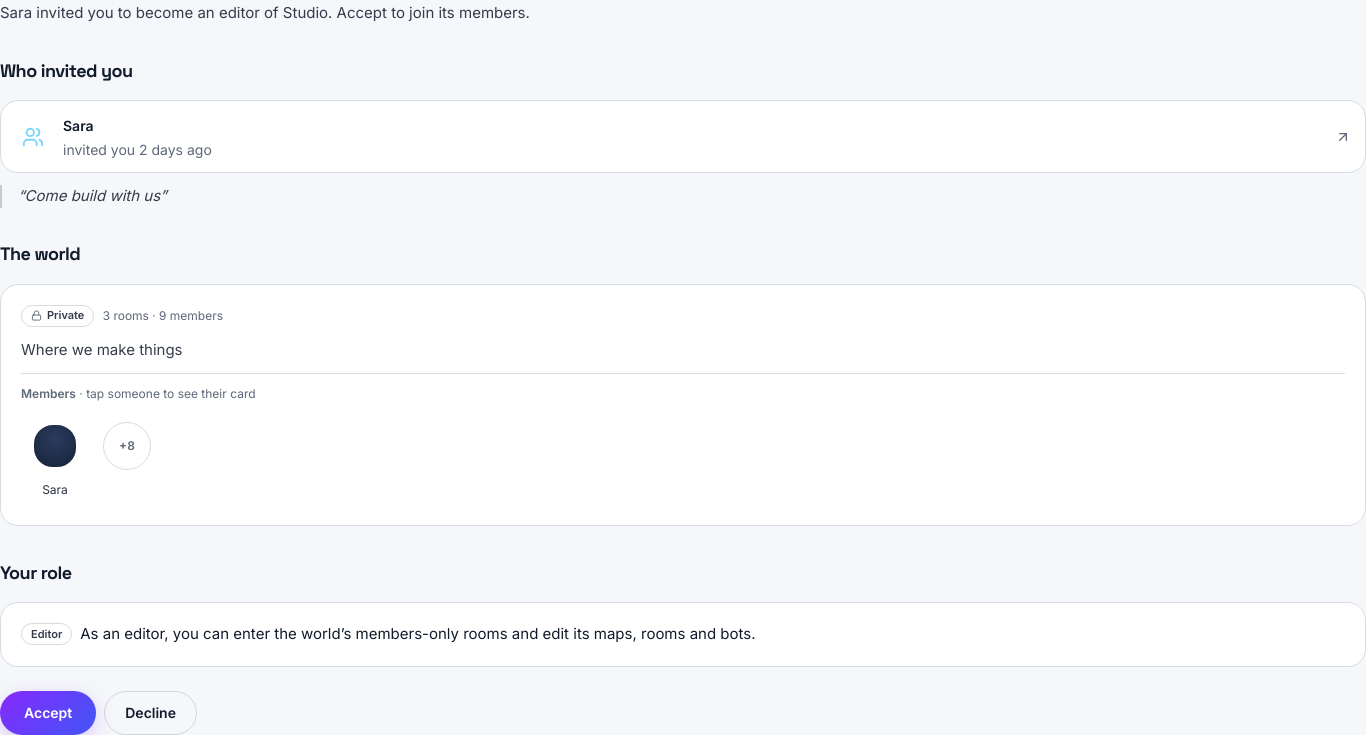
Test case: The invitation page › says which role accepting could not give, and why
(page scrolled)
Click the button "Accept". click: (48, 713)
box: [0,691,96,734]
(page scrolled)
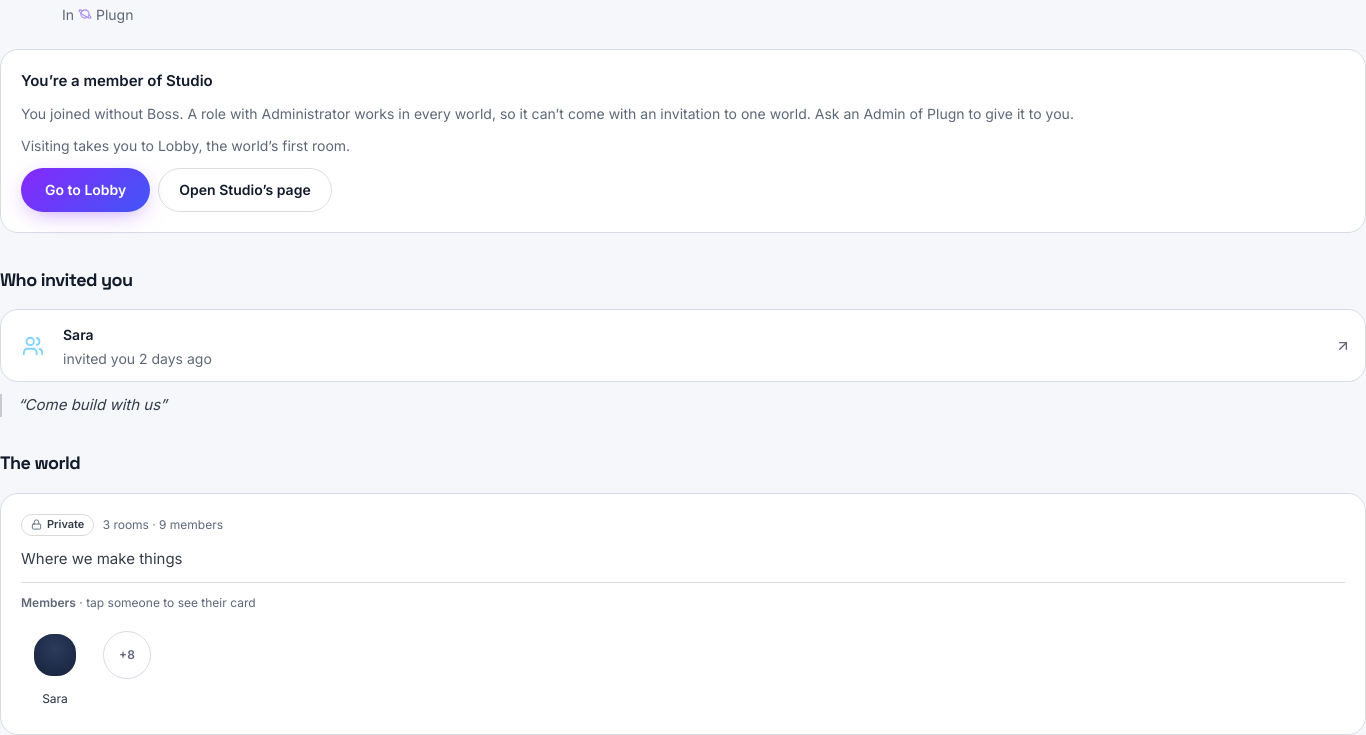
Expected: the text with test id "invitation-not-given" shows "You joined without Boss. A role with Administrator works in every world, so it can’t come with an invitation to one world. Ask an Admin of Plugn to give it to y", [21,105,1074,122]
